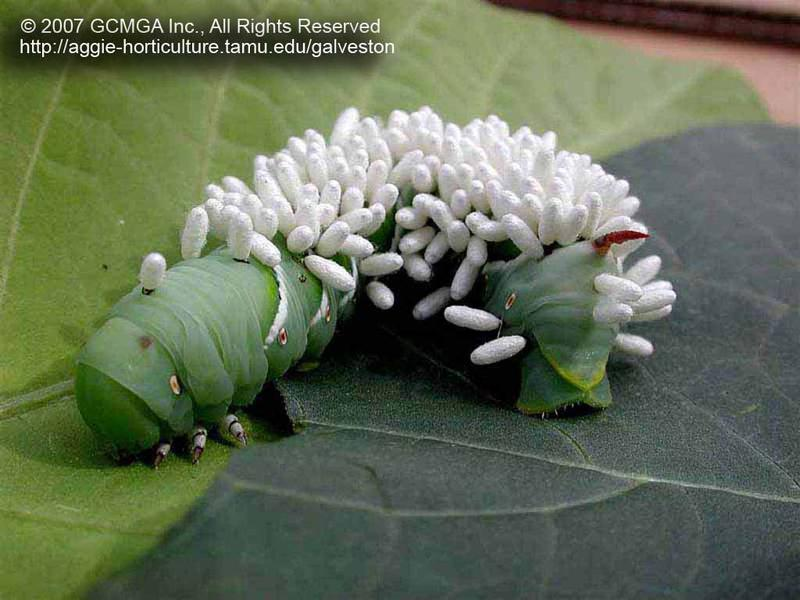Rice_horned_caterpillar: (65, 103, 678, 493)
